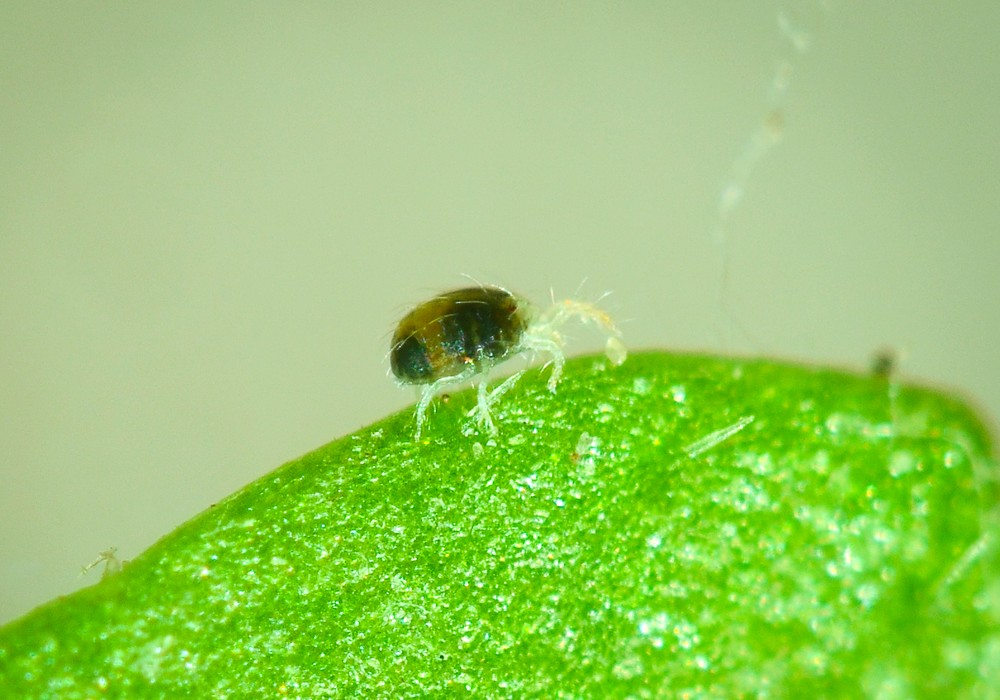Aracnido Rojo: (362, 247, 640, 439)
